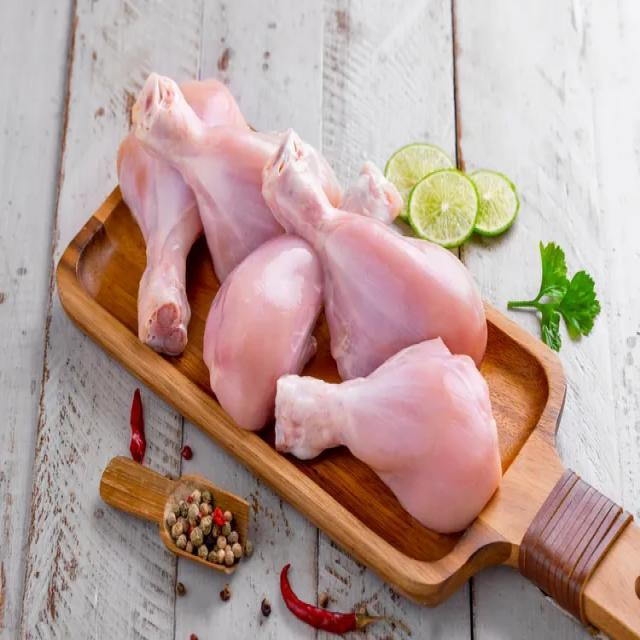leg: (273, 144, 487, 378), (204, 164, 395, 408), (277, 347, 509, 532), (104, 64, 232, 355), (140, 74, 309, 258)
